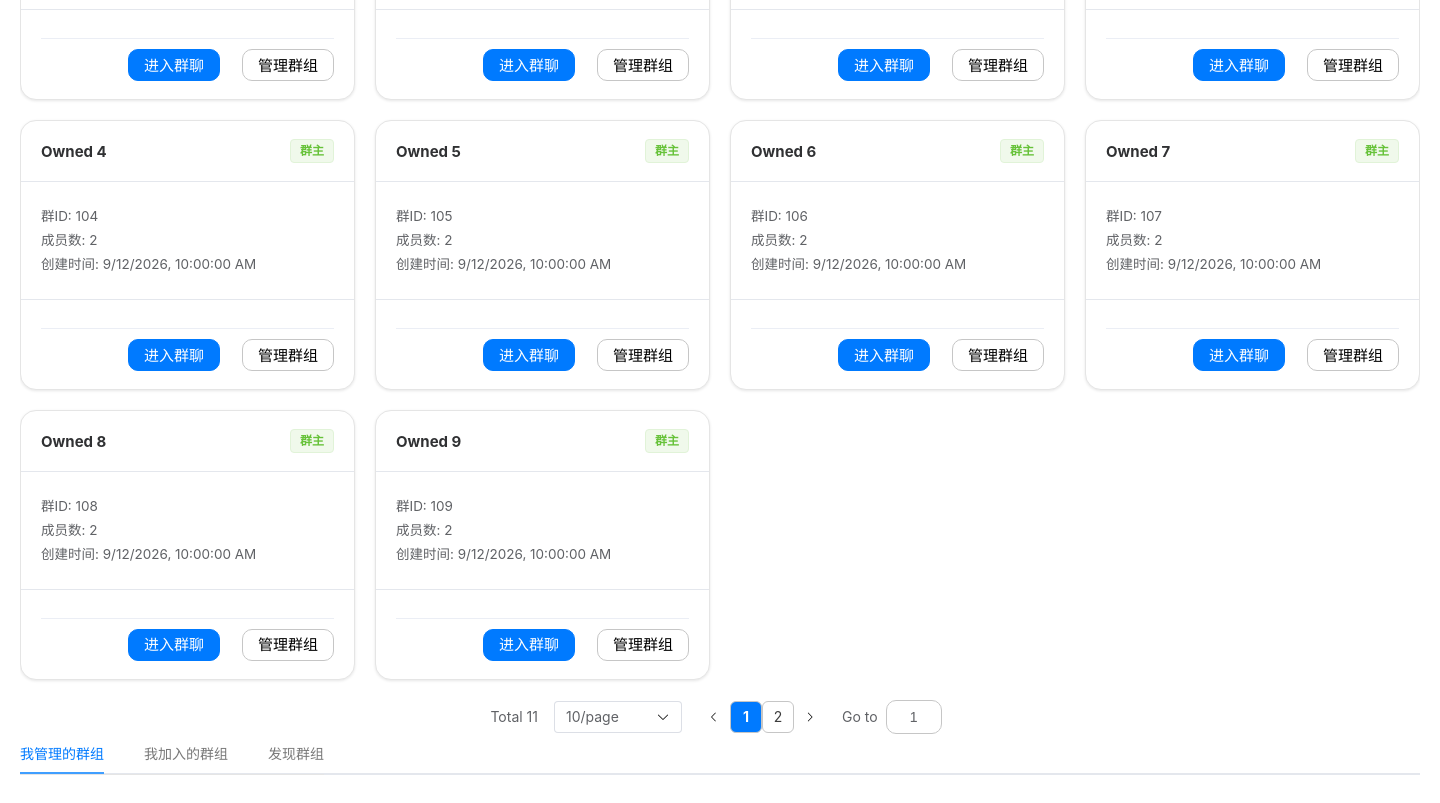
Scenario: routed group page journeys with real API responses › requests server membership pages and refreshes after leaving the final page with HTTP 204
(page scrolled)
What coordinates should you click on to do the following:
click the button with class "btn-next"
I would click on:
 (810, 717)
Its box is [794,701,826,733].
(page scrolled)
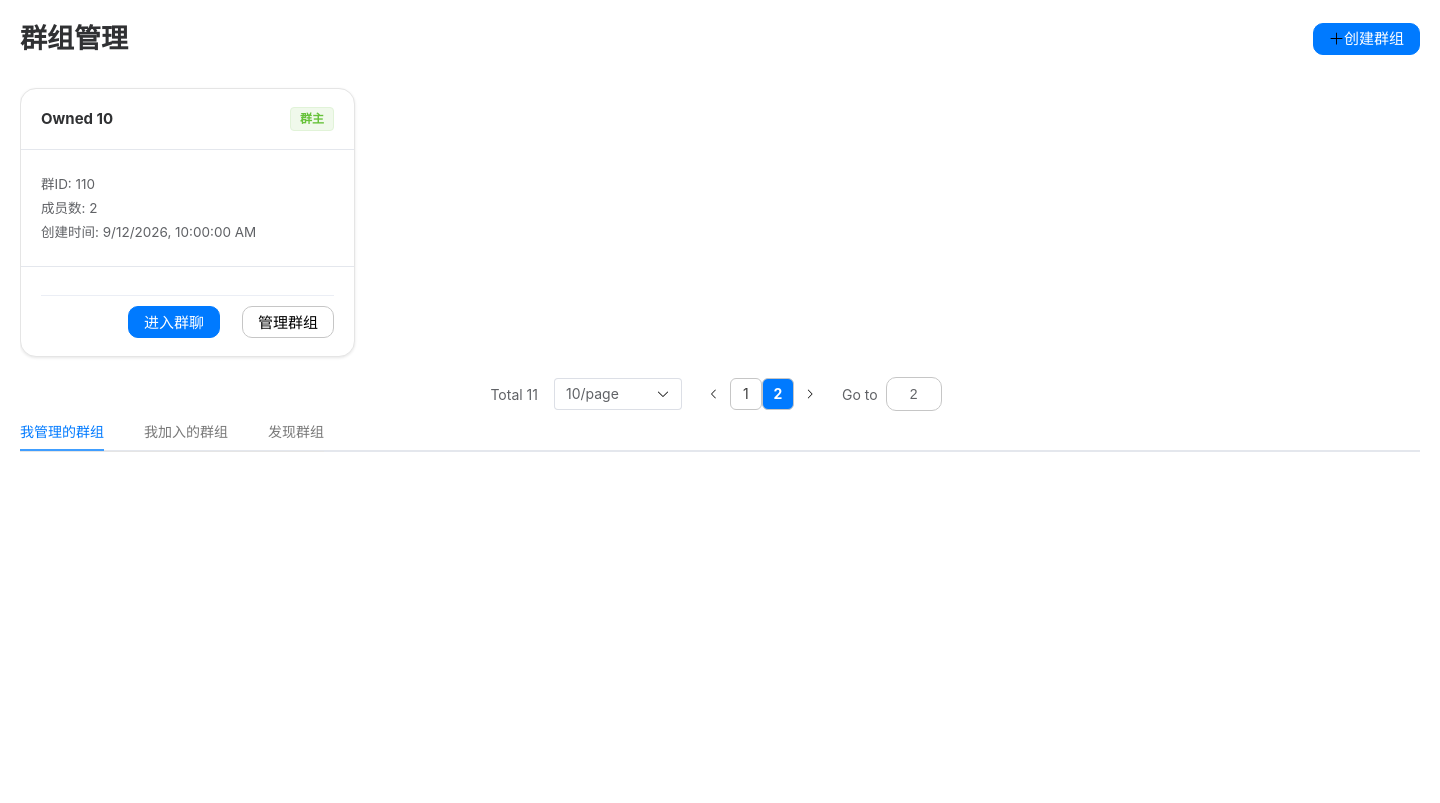
Now the number of elements with class "group-card" is 1, box [20,88,355,358]
Now the panel shows "Owned 10", box [41,109,113,128]
What coordinates should you click on to do the following:
click the tab "我加入的群组"
I would click on:
 (186, 431)
Its box is [144,423,228,440].
(page scrolled)
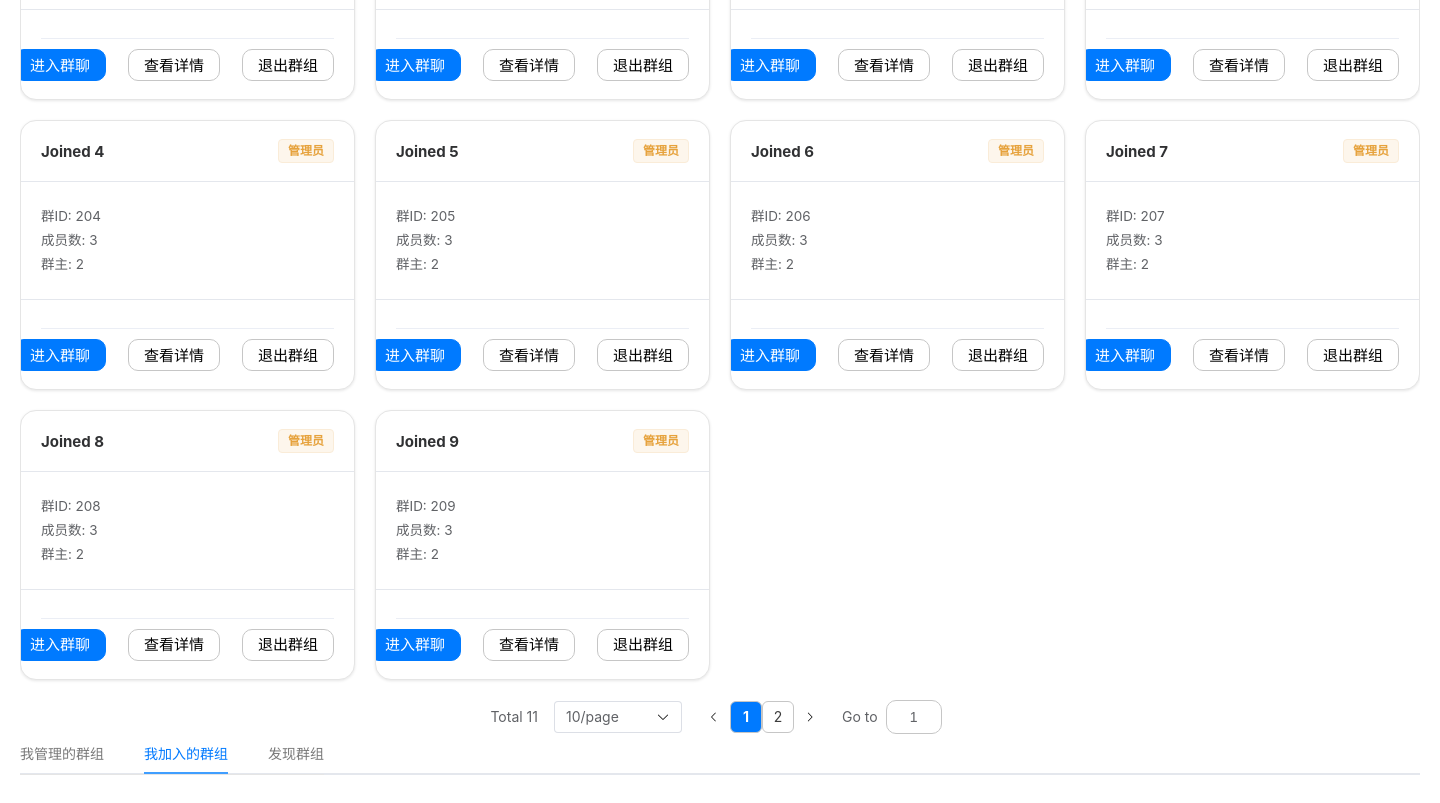
Now the number of elements with class "group-card" is 10
What coordinates should you click on to do the following:
click the button with class "btn-next"
I would click on:
 (810, 717)
Its box is [794,701,826,733].
(page scrolled)
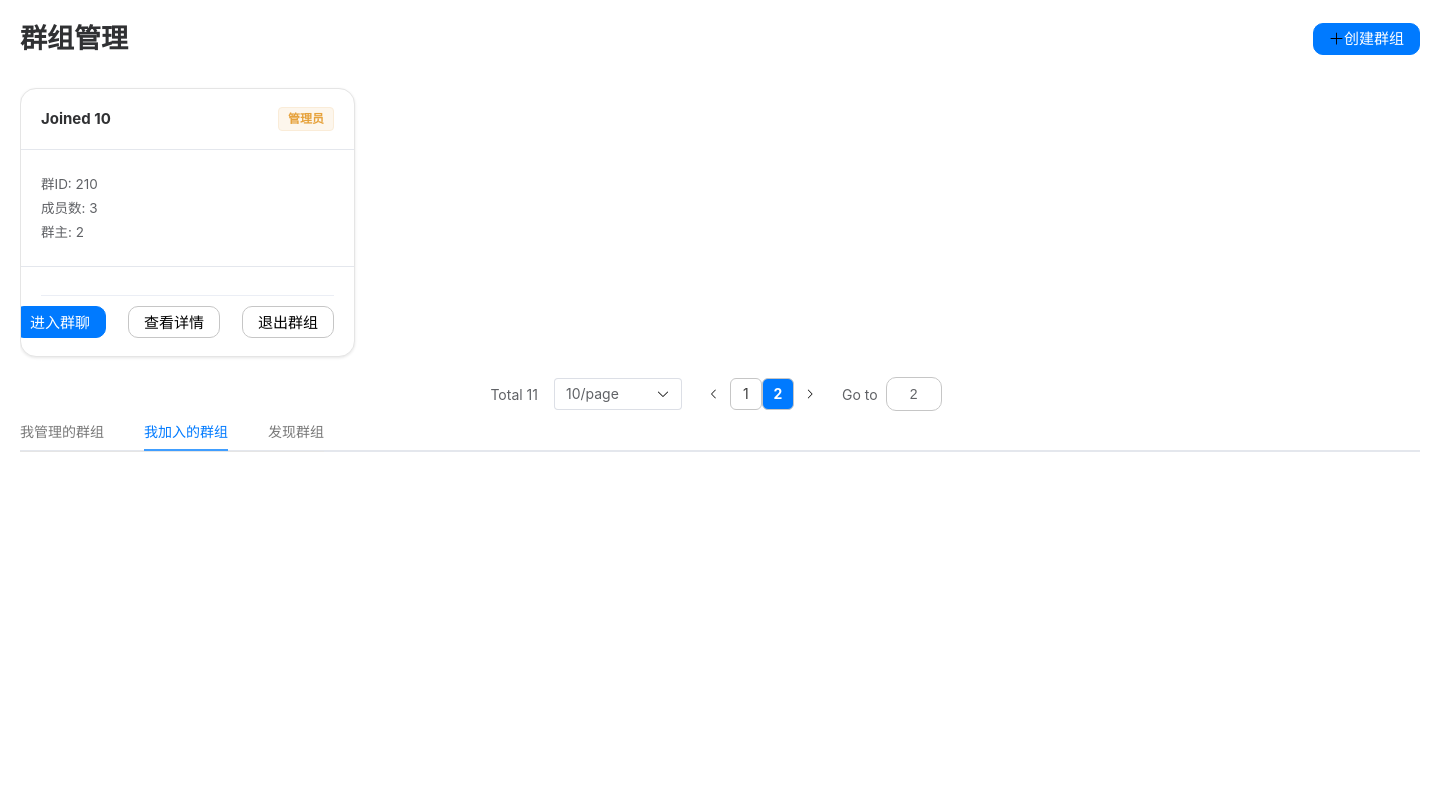
Now the number of elements with class "group-card" is 1, box [20,88,355,358]
What coordinates should you click on to do the following:
click the button "退出群组"
I would click on:
 (288, 322)
Its box is [242,306,334,338].
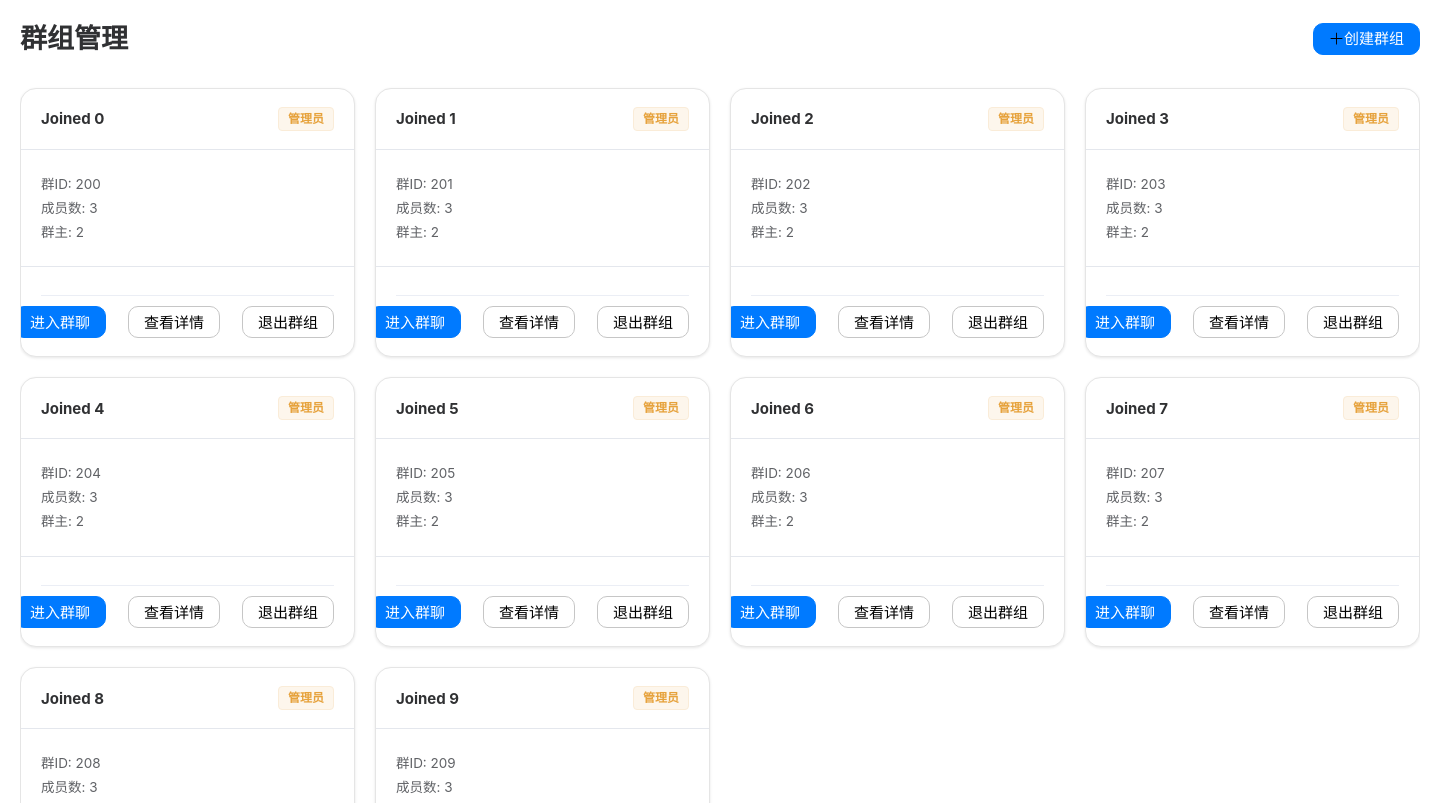
Now the number of elements with class "group-card" is 10
Now the text "Joined 10" is gone
